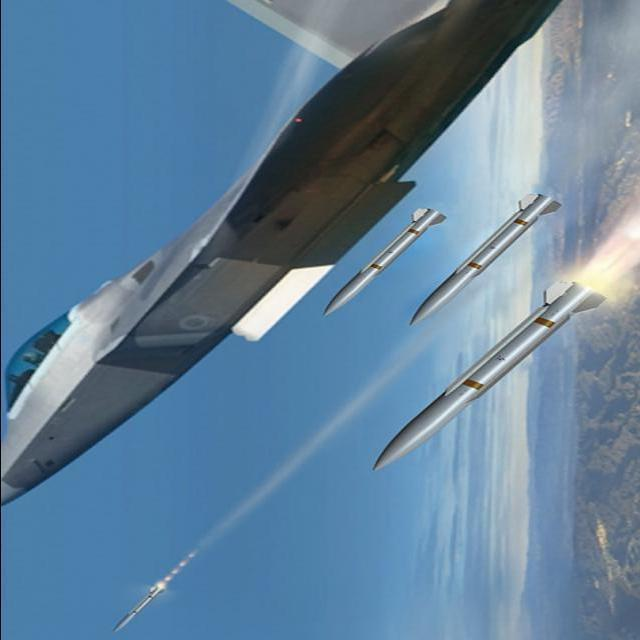missile: (368, 274, 606, 470), (402, 189, 560, 323), (324, 203, 447, 318), (108, 567, 175, 640)
